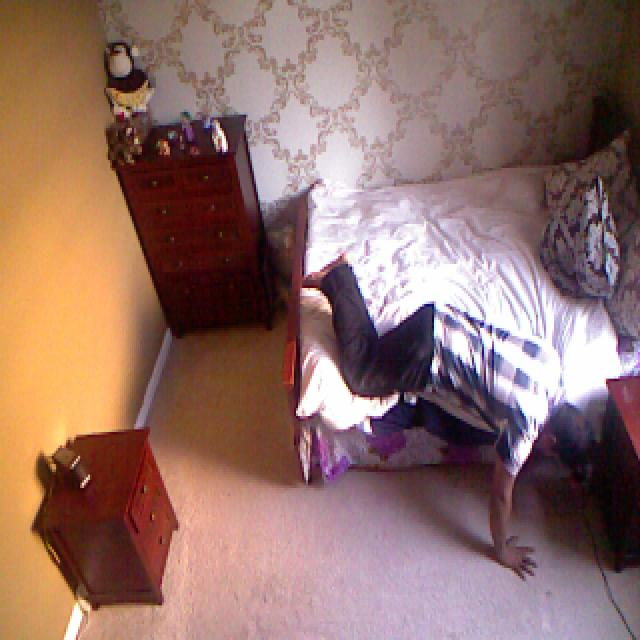lying: (305, 254, 594, 586)
